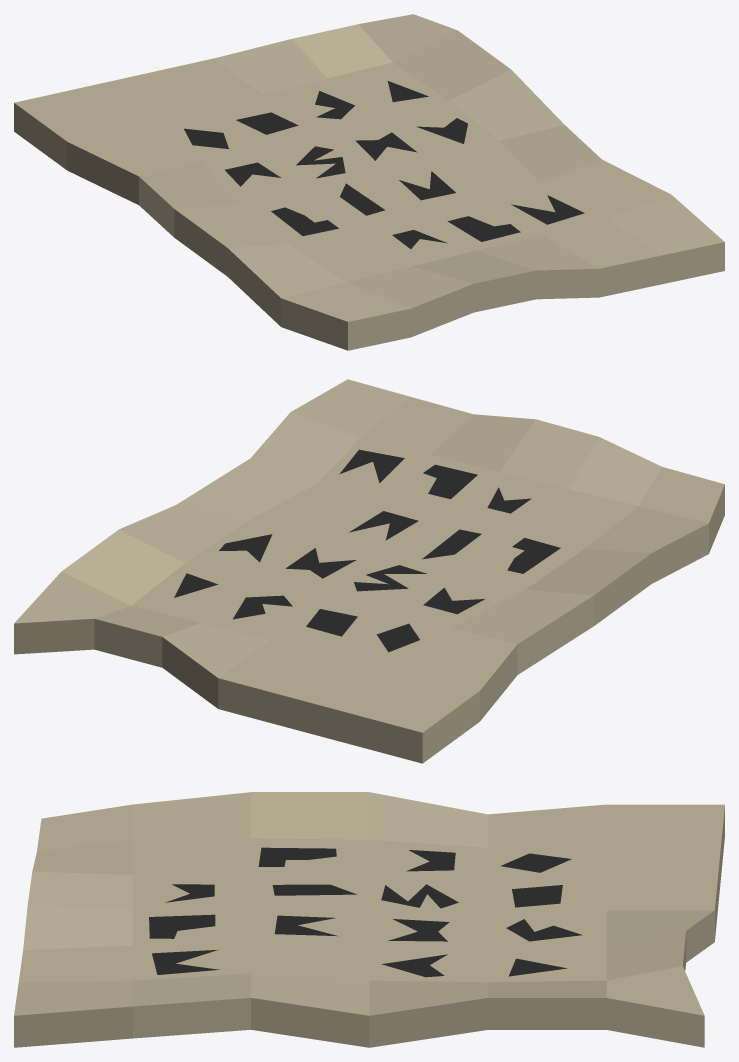
The model's file is Paper_Decoration.fbx.
3 views of the same model, one above another, from view 1: azimuth 30°, elevation 25°; view 2: azimuth 150°, elevation 25°; view 3: azimuth 270°, elevation 25° (orthographic). The views are drawn at different scales.
Visible parts, largest first — view 1: Cube; view 2: Cube; view 3: Cube.
Part boxes in pixels (box(x1,y1,x2,y2)): Cube: box(14, 14, 724, 350); Cube: box(14, 379, 724, 763); Cube: box(14, 792, 724, 1047).
Bounding box in the file's own units: 200 × 22.03 × 284.
